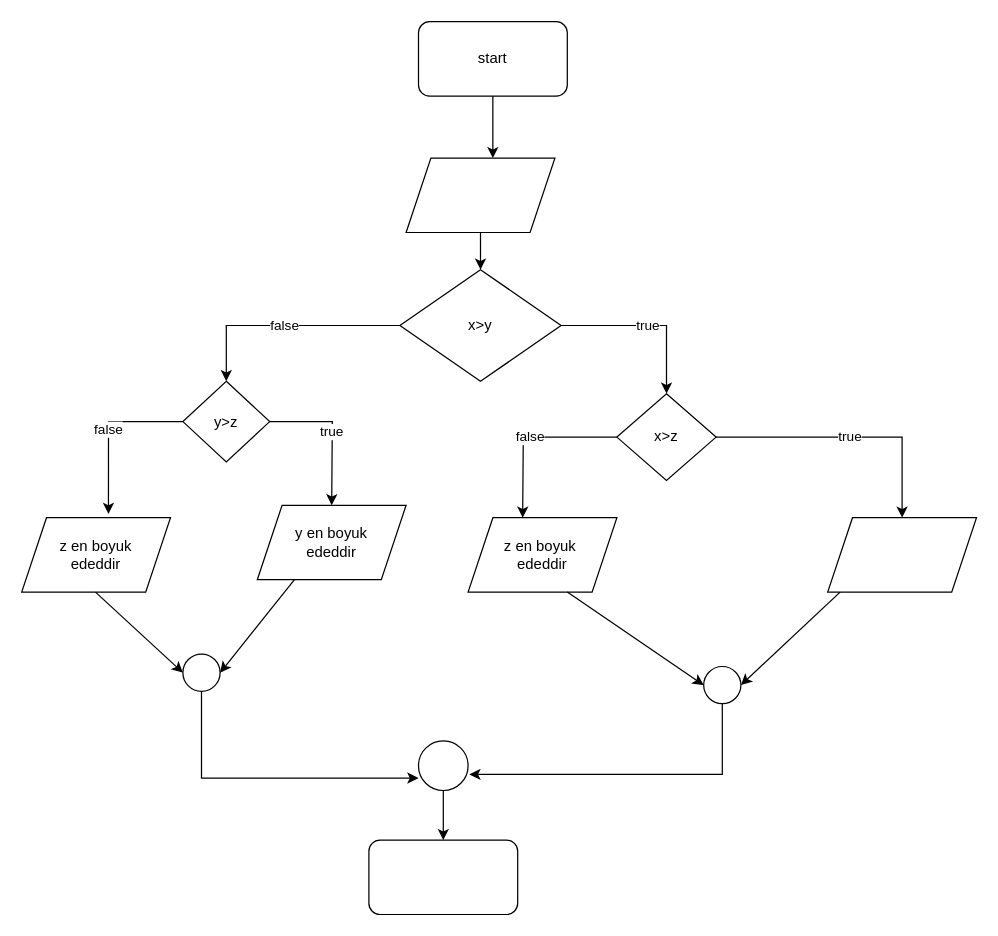
Some shapes in this 998 by 936 pixel diagram are drawn without their labels. The centre of each missing label's shape, as x and y in pixels:
ededler=x,y,z: (x=480, y=194)
SON: (x=443, y=876)
x en boyuk ededdir: (x=901, y=554)
